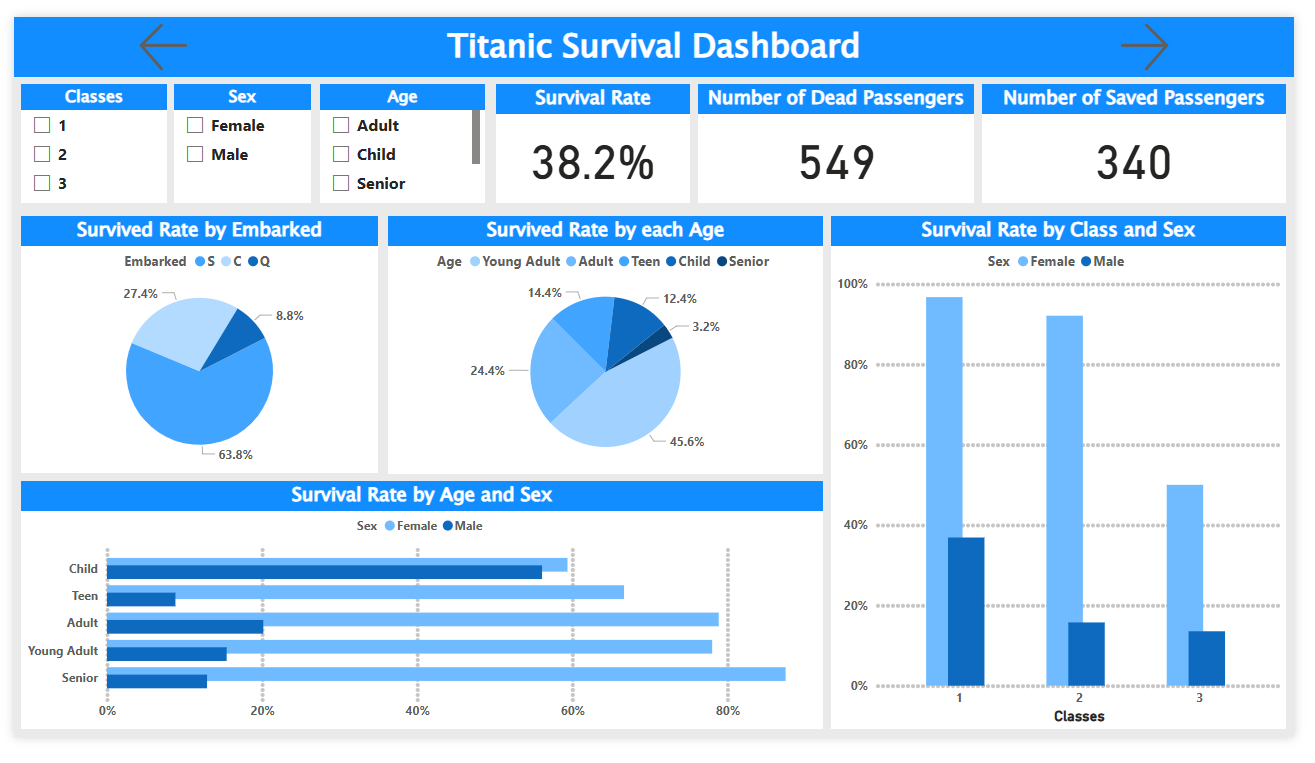

The dashboard page shown, as its layout file describes it:
{"tool":"powerbi","page":{"name":"Who Survived?","canvas":[1280,720],"ordinal":1},"visuals":[{"type":"cardVisual","title":"Survival Rate","fields":{"Data":["Titanic.Survival Rate"]},"box":[482,67,194,119],"z":0},{"type":"textbox","box":[0,0,1280,60],"z":1000},{"type":"slicer","title":"Classes","fields":{"Values":["Titanic.Pclass"]},"box":[7,67,146,119],"z":2000},{"type":"slicer","title":"Sex","fields":{"Values":["Titanic.Sex"]},"box":[160,67,137,119],"z":3000},{"type":"slicer","title":"Age","fields":{"Values":["Titanic.AgeGroup"]},"box":[306,67,165,119],"z":4000},{"type":"actionButton","box":[979,0,301,60],"z":5000},{"type":"actionButton","box":[0,0,299,60],"z":6000},{"type":"clusteredBarChart","title":"Survival Rate by Age and Sex","fields":{"Category":["Titanic.AgeGroup"],"Series":["Titanic.Sex"],"Y":["Titanic.Survival Rate"]},"box":[7,464,802,248],"z":7000},{"type":"cardVisual","title":"Number of Dead Passengers","fields":{"Data":["CountNonNull(Titanic.Survived)"]},"box":[684,67,276,119],"z":8000},{"type":"cardVisual","title":"Number of Saved Passengers","fields":{"Data":["CountNonNull(Titanic.Survived)"]},"box":[968,67,304,119],"z":9000},{"type":"pieChart","title":"Survived Rate by each Age","fields":{"Category":["Titanic.AgeGroup"],"Y":["Sum(Titanic.Survived)"]},"box":[374,199,435,258],"z":10000},{"type":"clusteredColumnChart","fields":{"Category":["Titanic.Pclass"],"Series":["Titanic.Sex"],"Y":["Titanic.Survival Rate"]},"box":[817,199,455,513],"z":11000},{"type":"pieChart","title":" Survived Rate by Embarked","fields":{"Category":["Titanic.Embarked"],"Y":["Sum(Titanic.Survived)"]},"box":[7,199,357,257],"z":12000}]}

Visuals, with their boxes on the page's 1280x720 design canvas (x1, y1, x2, y2). These are canvas units, not pixel positions in the 1315x763 screenshot, which may show the page scaled, cropped or inside an application window:
"Survival Rate" cardVisual: 482/67/676/186
textbox: 0/0/1280/60
"Classes" slicer: 7/67/153/186
"Sex" slicer: 160/67/297/186
"Age" slicer: 306/67/471/186
actionButton: 979/0/1280/60
actionButton: 0/0/299/60
"Survival Rate by Age and Sex" clusteredBarChart: 7/464/809/712
"Number of Dead Passengers" cardVisual: 684/67/960/186
"Number of Saved Passengers" cardVisual: 968/67/1272/186
"Survived Rate by each Age" pieChart: 374/199/809/457
clusteredColumnChart - Titanic.Pclass x Titanic.Sex: 817/199/1272/712
" Survived Rate by Embarked" pieChart: 7/199/364/456
